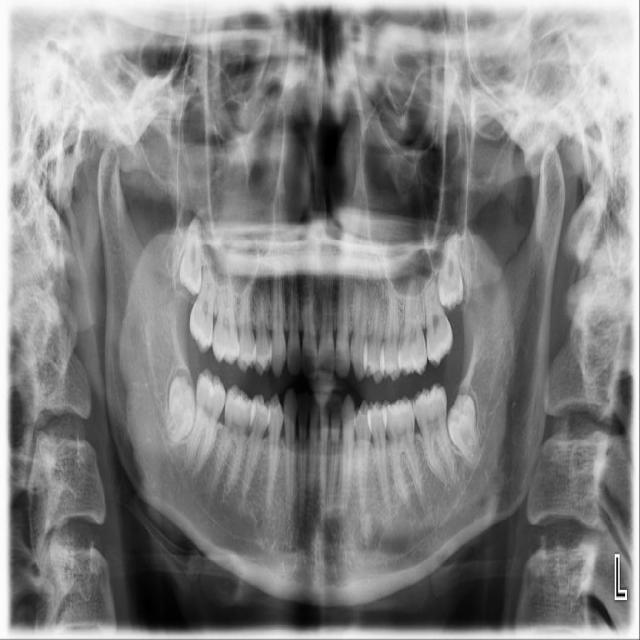impacted tooth: (450, 394, 481, 461), (163, 378, 195, 441), (437, 233, 463, 307), (179, 217, 202, 293)
